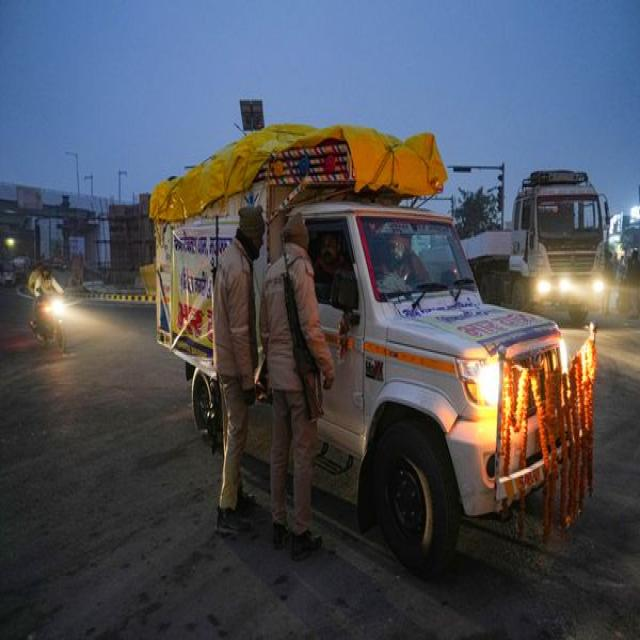truck: (151, 126, 566, 576), (461, 172, 610, 323)
